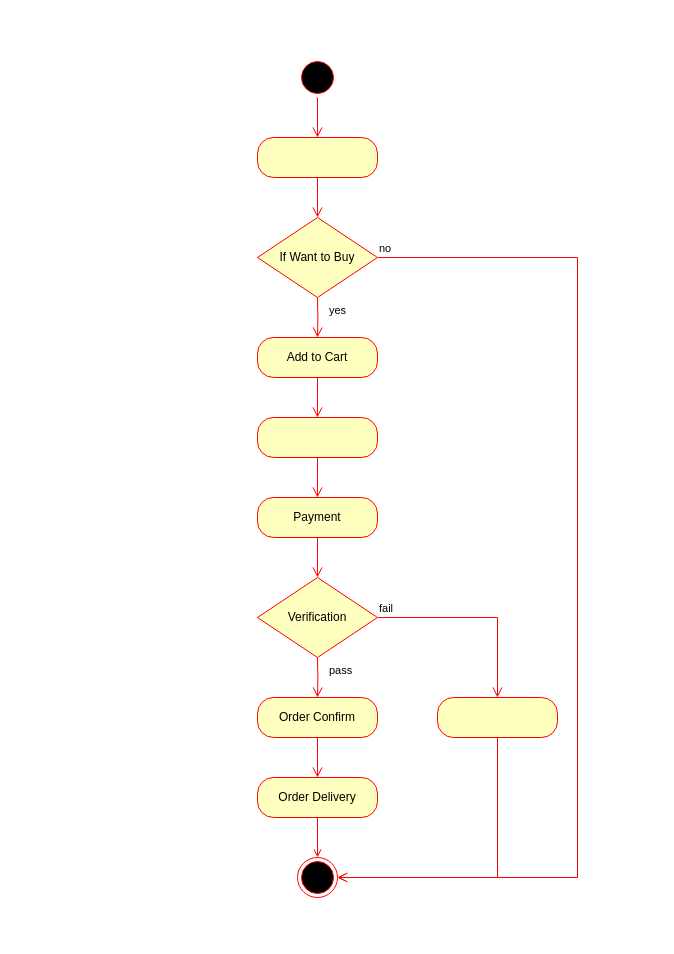
Image size: 674x954. Some labels were removed from this diagram. Each missing label, with the centre of its shape:
Enter Delivery: the point at 317,437
Order Cancel: the point at 497,717
View Ice-creams: the point at 317,157
